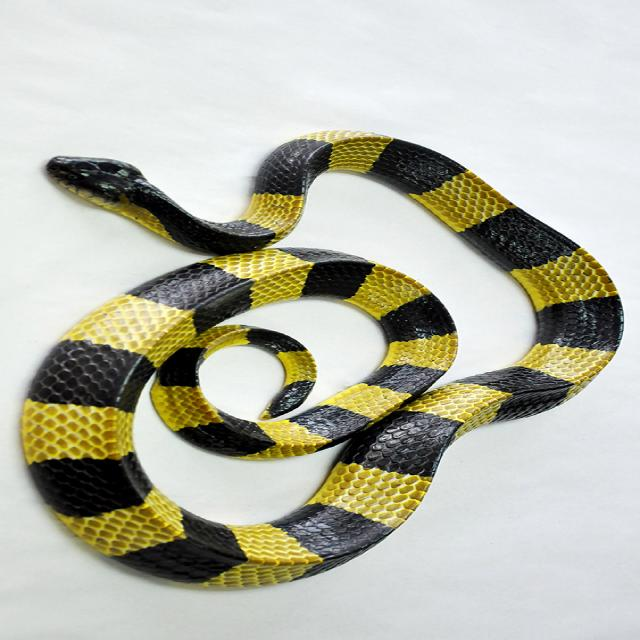Venomous: (66, 150, 442, 391)
